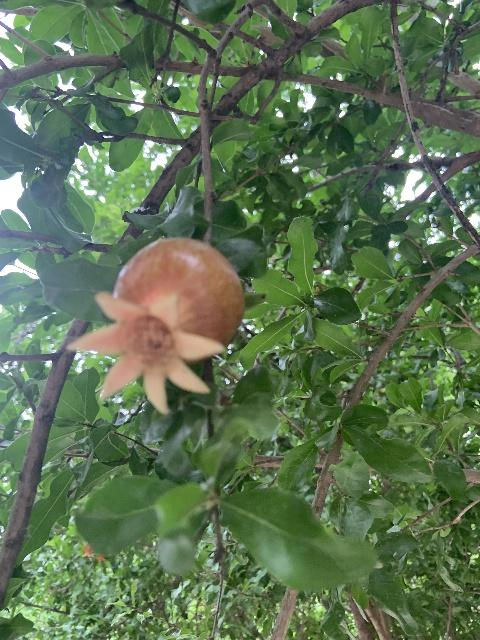early-fruit: (66, 237, 244, 414), (81, 543, 95, 557)
